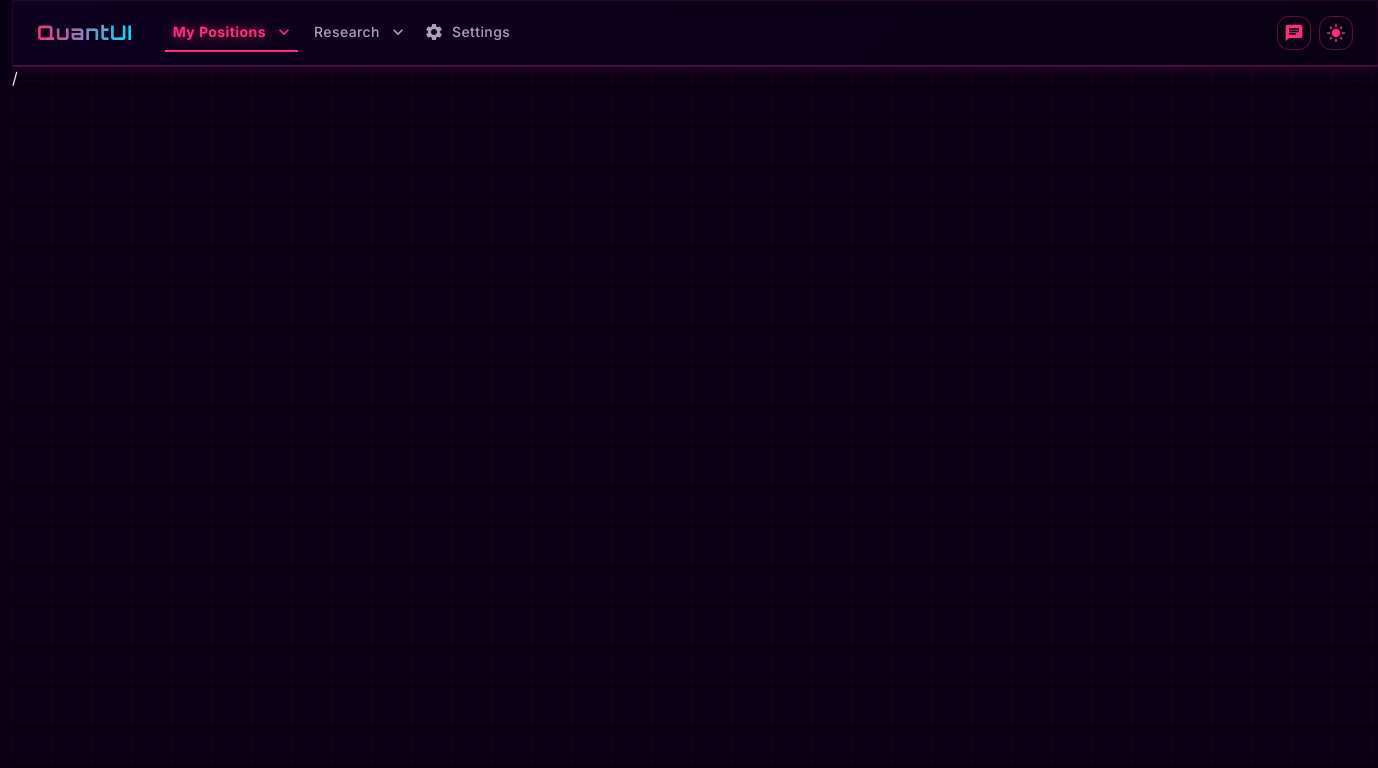
it: NavBar › navigates on selection and closes the menu behind itself
Click the button "My Positions".
click(231, 33)  # box [165,14,298,52]
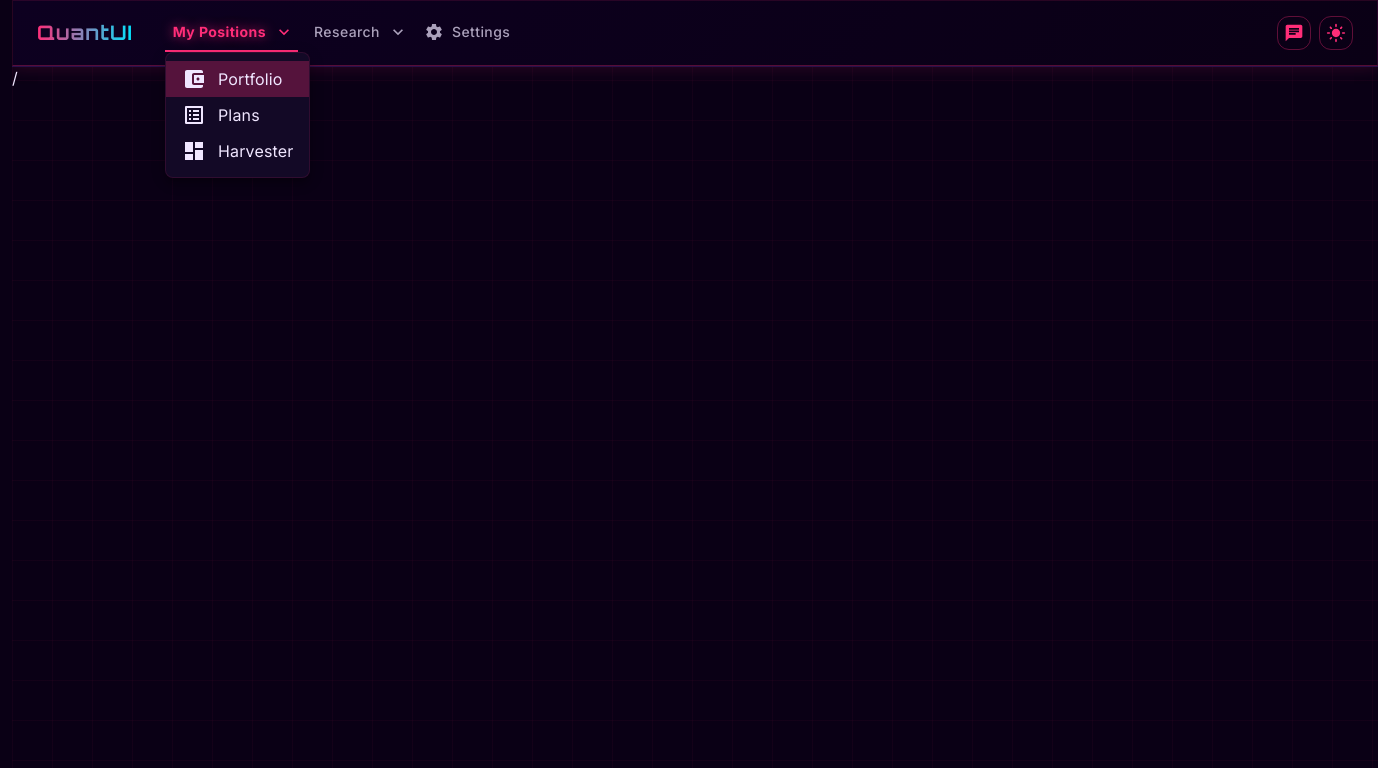
Click the menu item "Harvester".
click(238, 151)  # box [182,139,293,163]
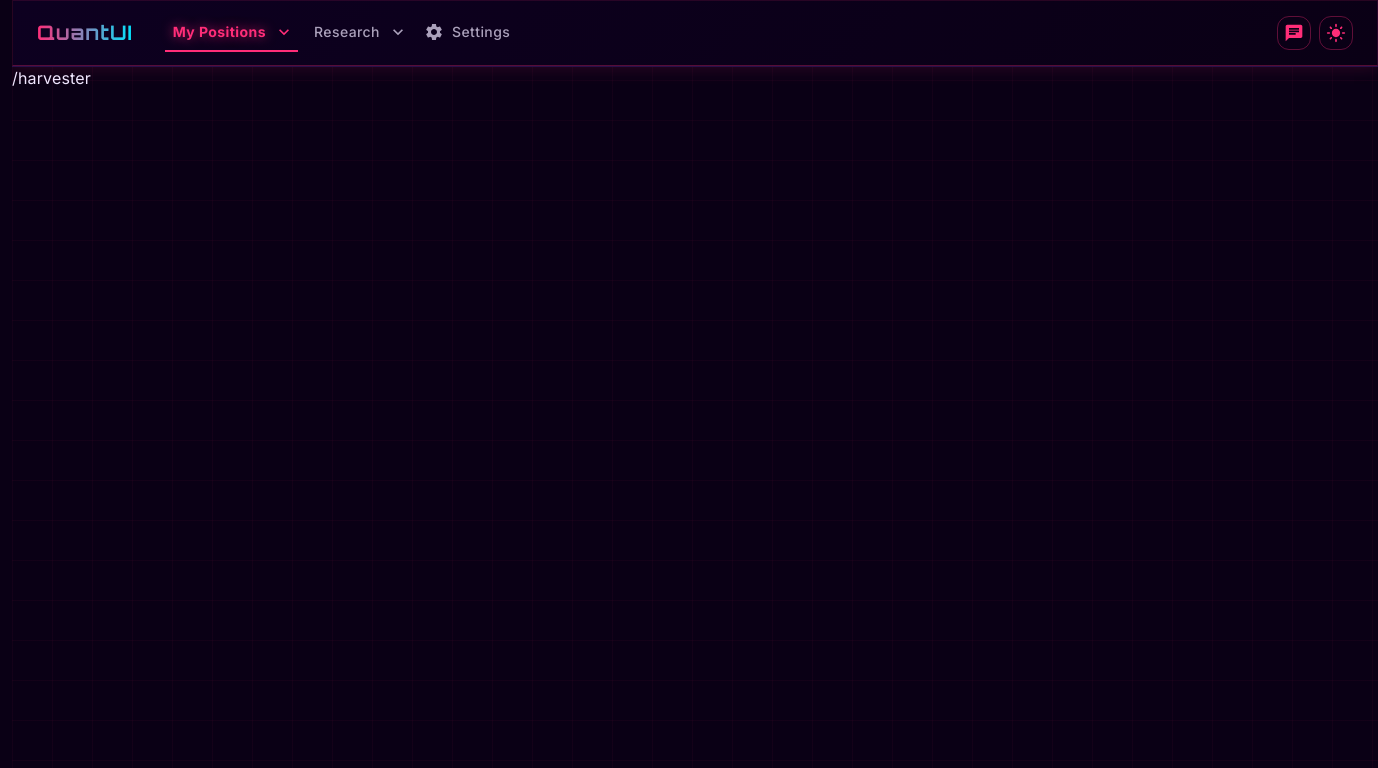
Now the text with test id "where" reads "/harvester", box [12,68,91,88]
Now the menu is gone
